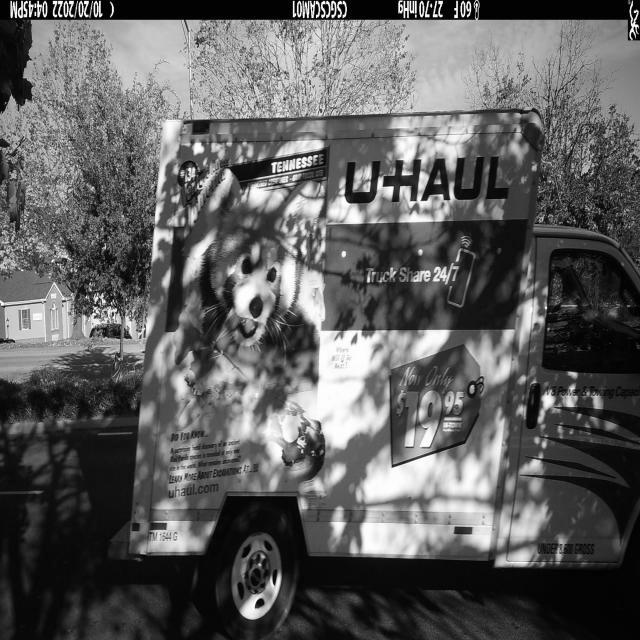Box Truck: (108, 108, 640, 640)
